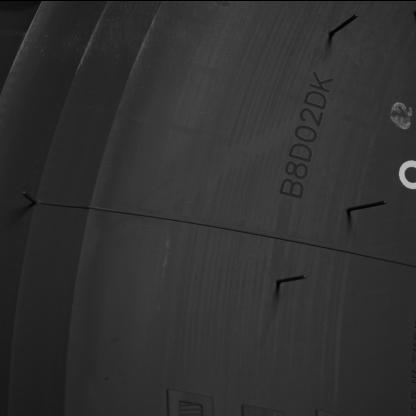ocr: (278, 70, 334, 198)
